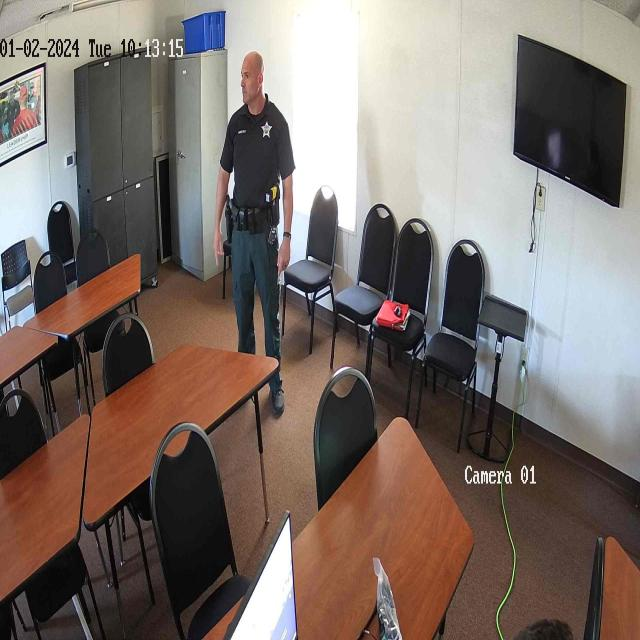weapon: (225, 198, 233, 245)
